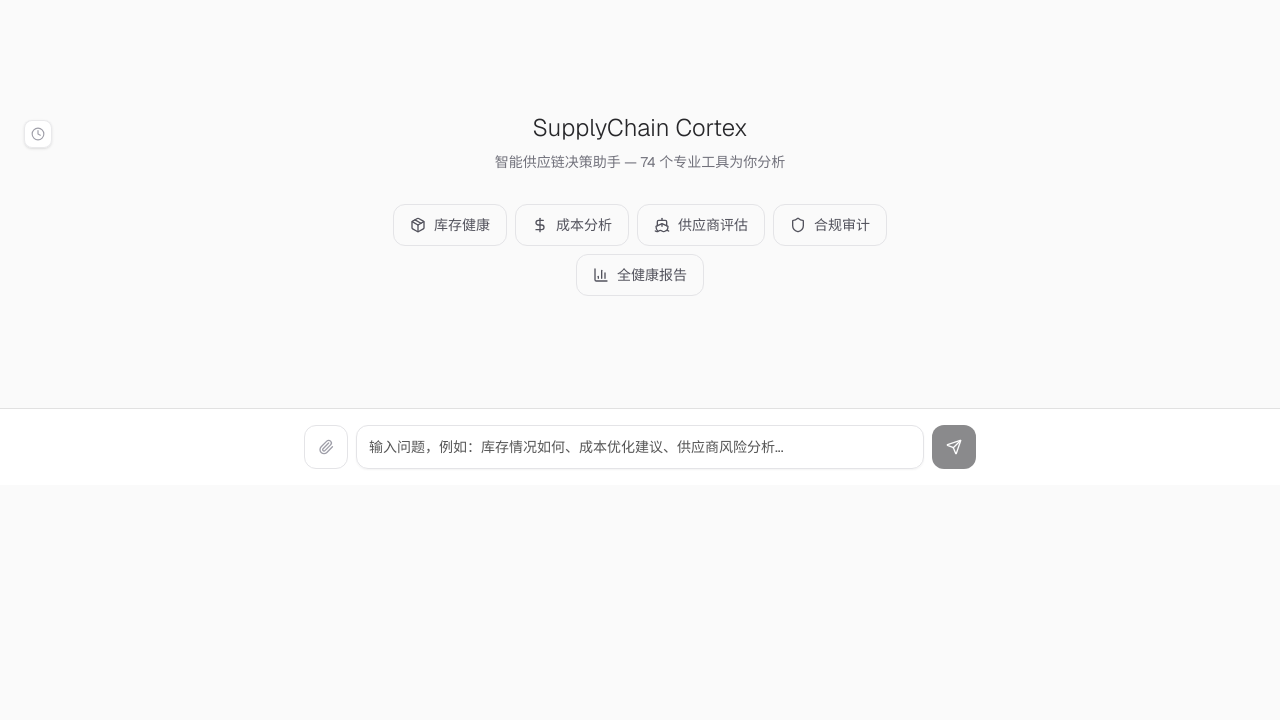
Test: ChatPanel › opens conversation history panel on button click
Step 1. Click the button titled "对话历史" → point(38, 134), box [24,120,52,148]
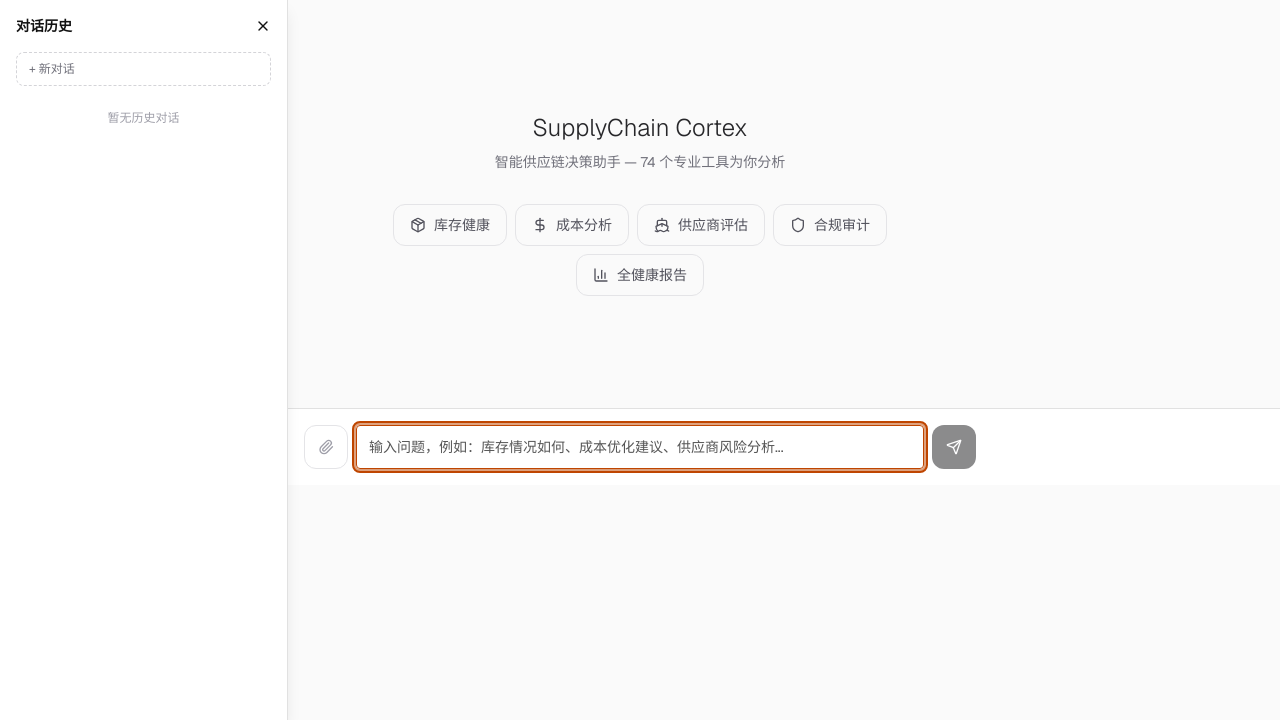
Check: the heading "对话历史" is shown, box [16,16,72,36]
Check: the button "+ 新对话" is shown, box [16,52,271,86]
